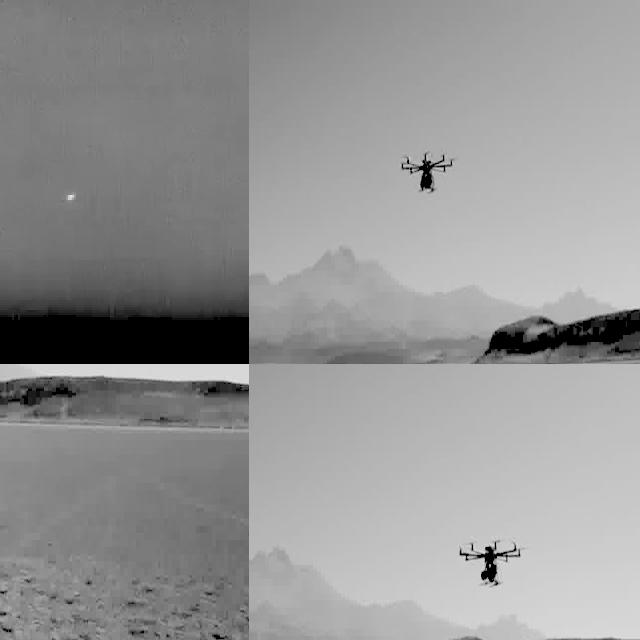1: (63, 188, 87, 212)
drone: (458, 536, 524, 588), (398, 147, 459, 202)
